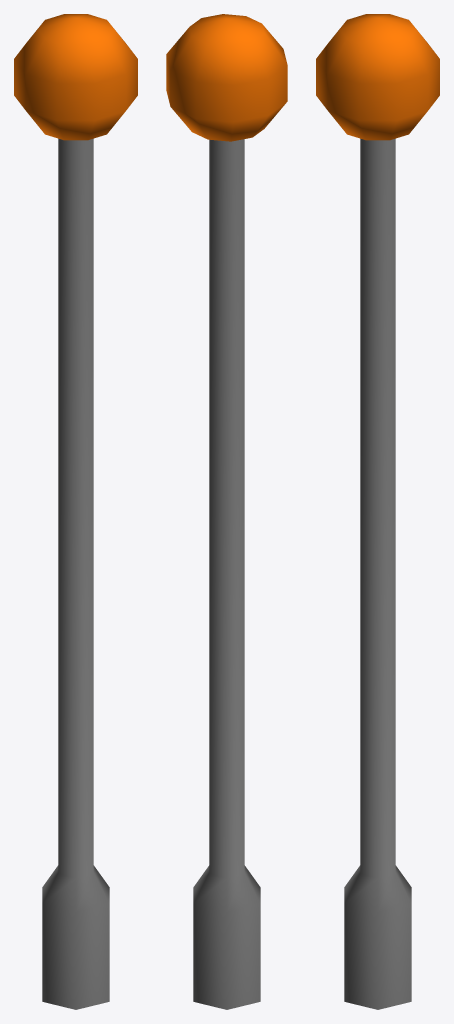
Rendered from StreetLamp_02.FBX.
3 renders of one model, left to right at view 1: azimuth 90°, elevation 25°; view 2: azimuth 150°, elevation 25°; view 3: azimuth 270°, elevation 25°, orthographic.
Parts seen in each view (by area): view 1: StreetLamp_02; view 2: StreetLamp_02; view 3: StreetLamp_02.
Boxes of the visible parts, x1,y1,x2,y2 form: StreetLamp_02: (14, 14, 137, 1009); StreetLamp_02: (166, 14, 287, 1009); StreetLamp_02: (316, 14, 439, 1009).
Size of the model in its own units: 0.701 by 6.4 by 0.7371.
